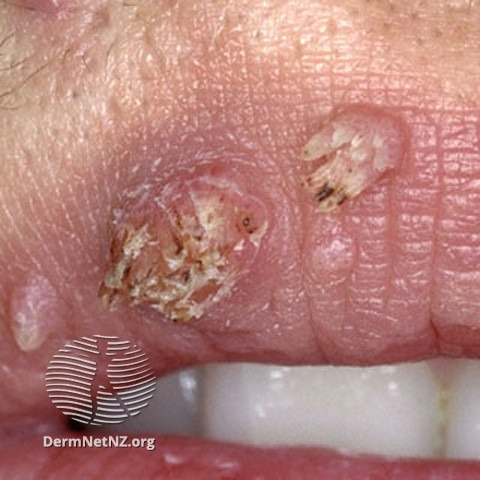Warts: (80, 158, 287, 326), (285, 92, 417, 224)
